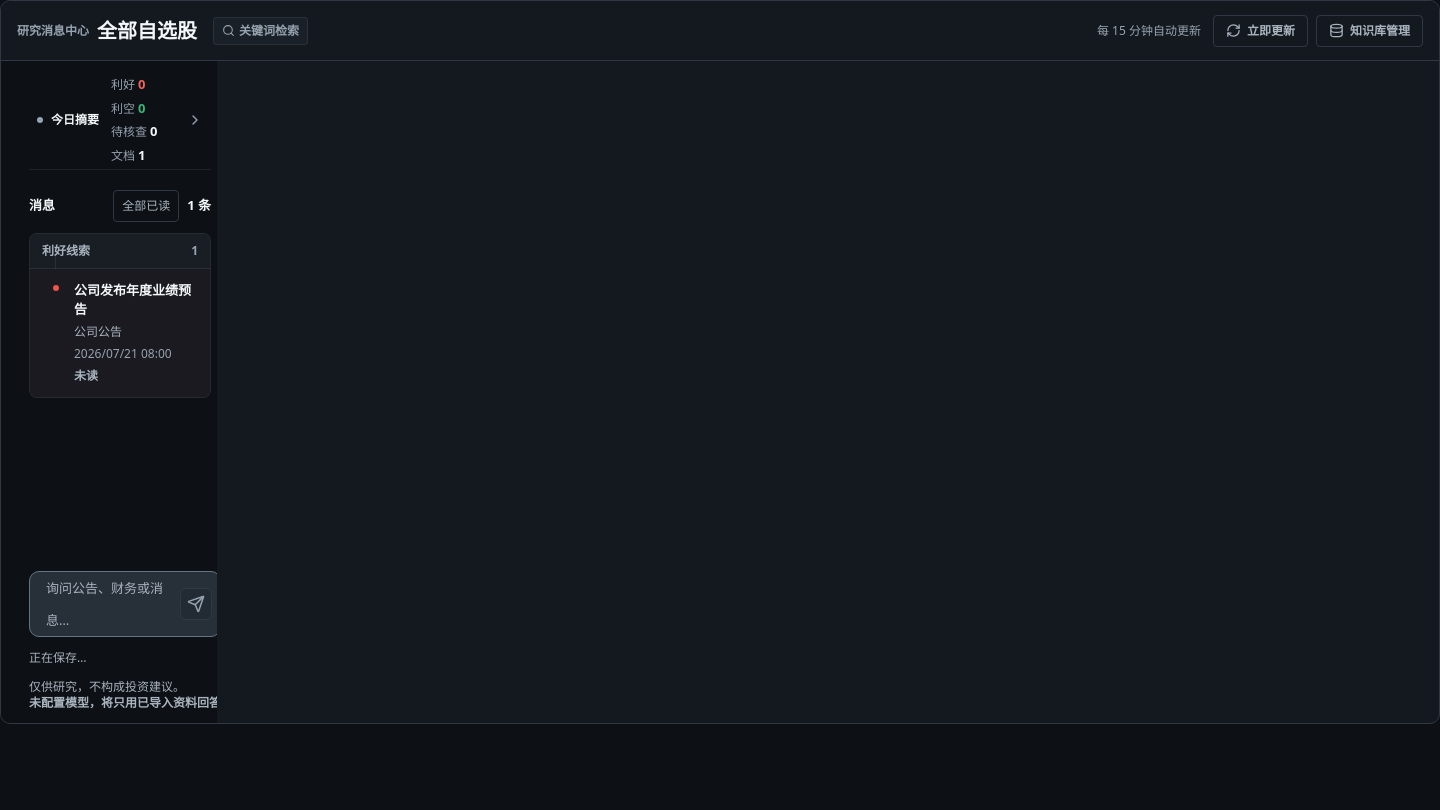
Test: NewsRagPanel › queries local research evidence and shows the risk boundary without a model
In the text box with placeholder "询问公告、财务或消息…": (105, 604) [38, 572, 172, 636], type "hi"
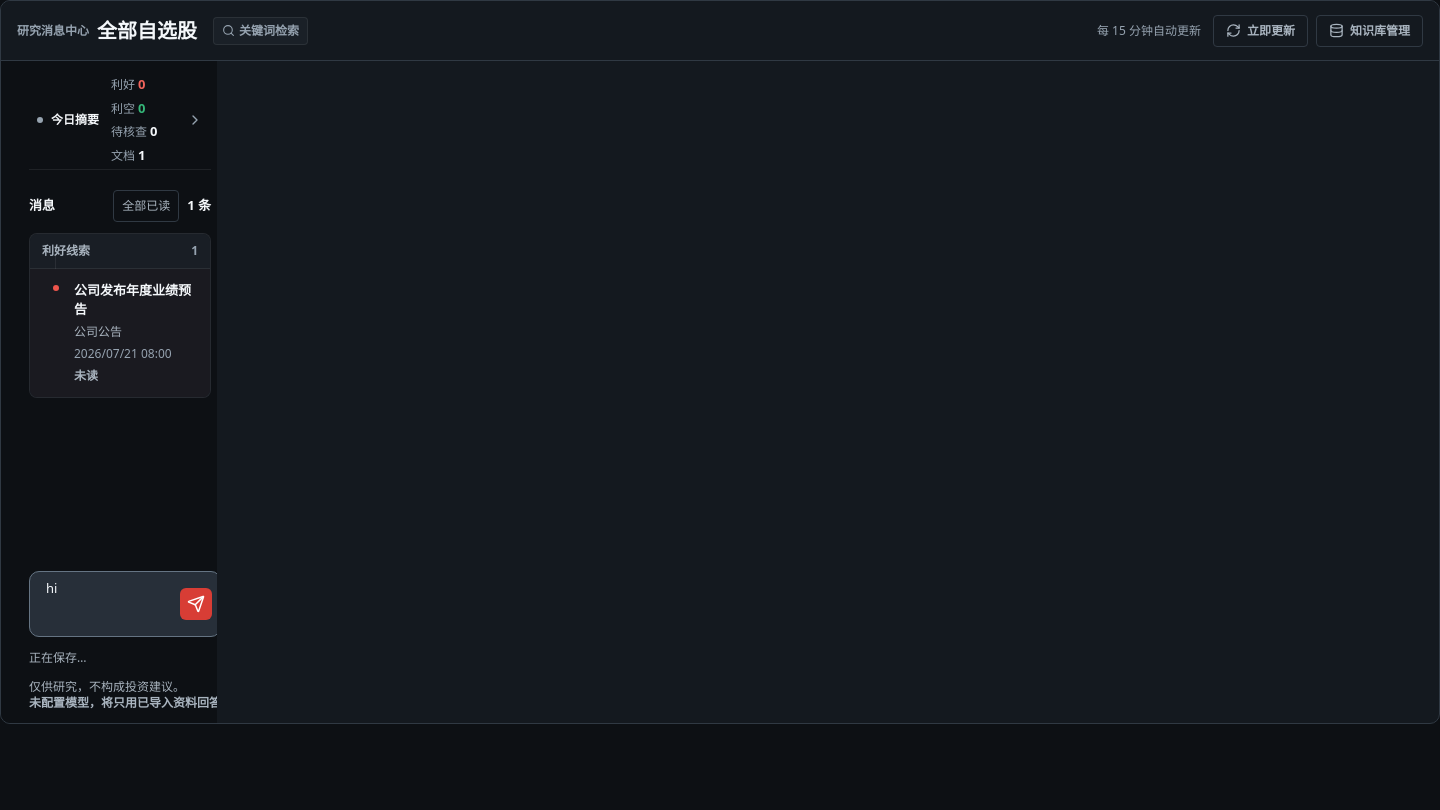
Submit the form, box [29, 571, 221, 711]
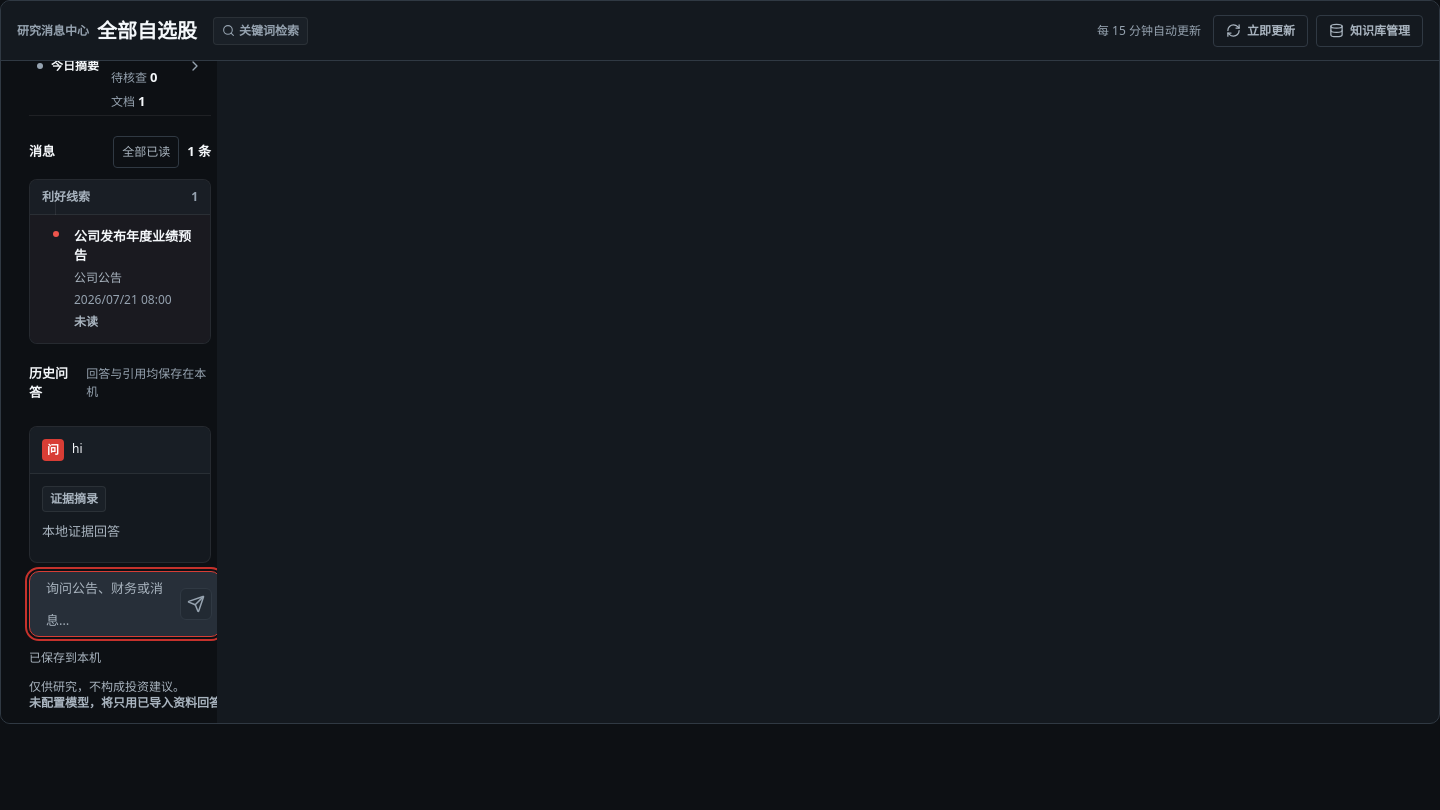
Expected: the text "仅供研究，不构成投资建议。" is shown, [29, 678, 185, 695]
Now the text "本地证据回答" is shown, box [42, 522, 120, 540]
